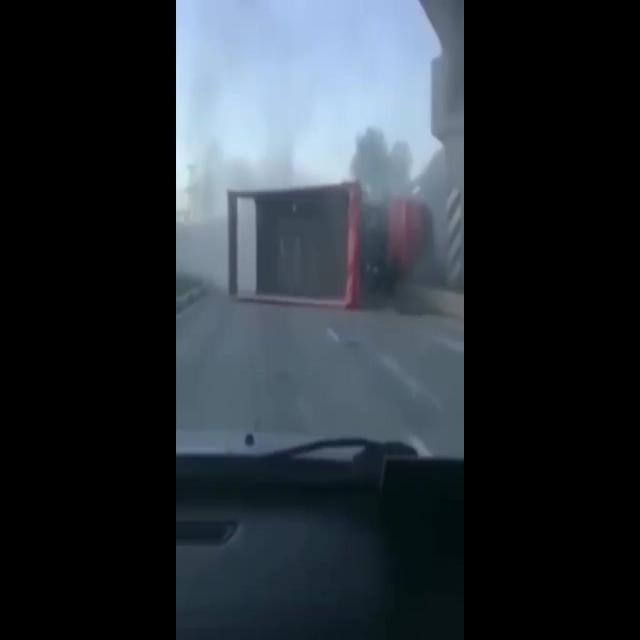single accident: (209, 159, 460, 333)
